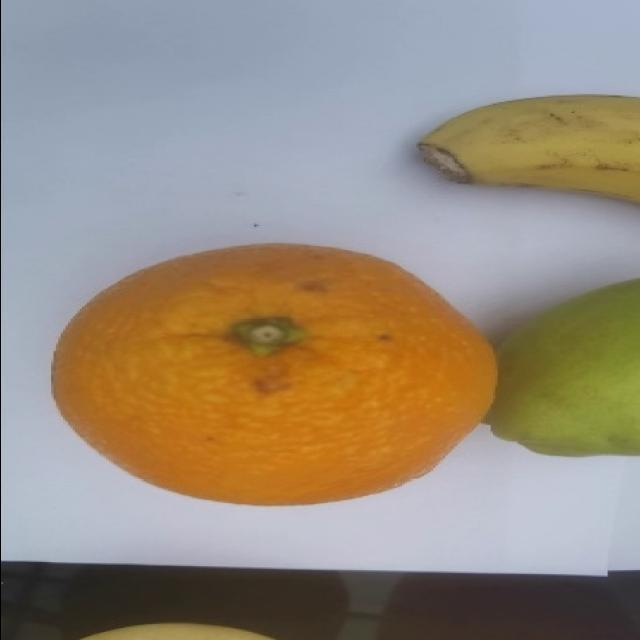Banana: (417, 92, 639, 204)
Orange: (50, 241, 499, 506)
